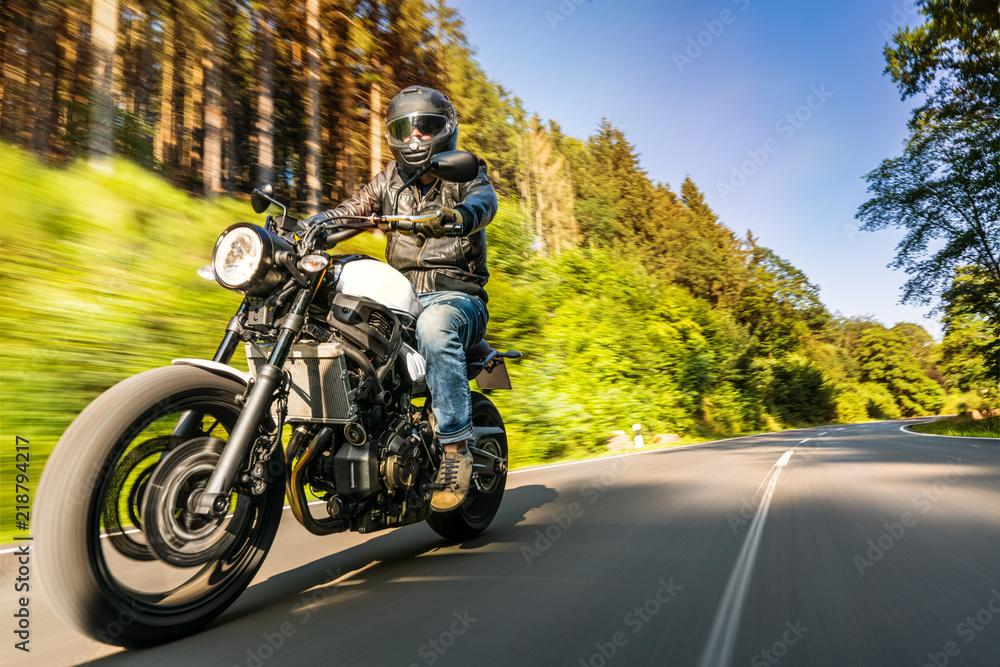helmet: (384, 84, 459, 175)
